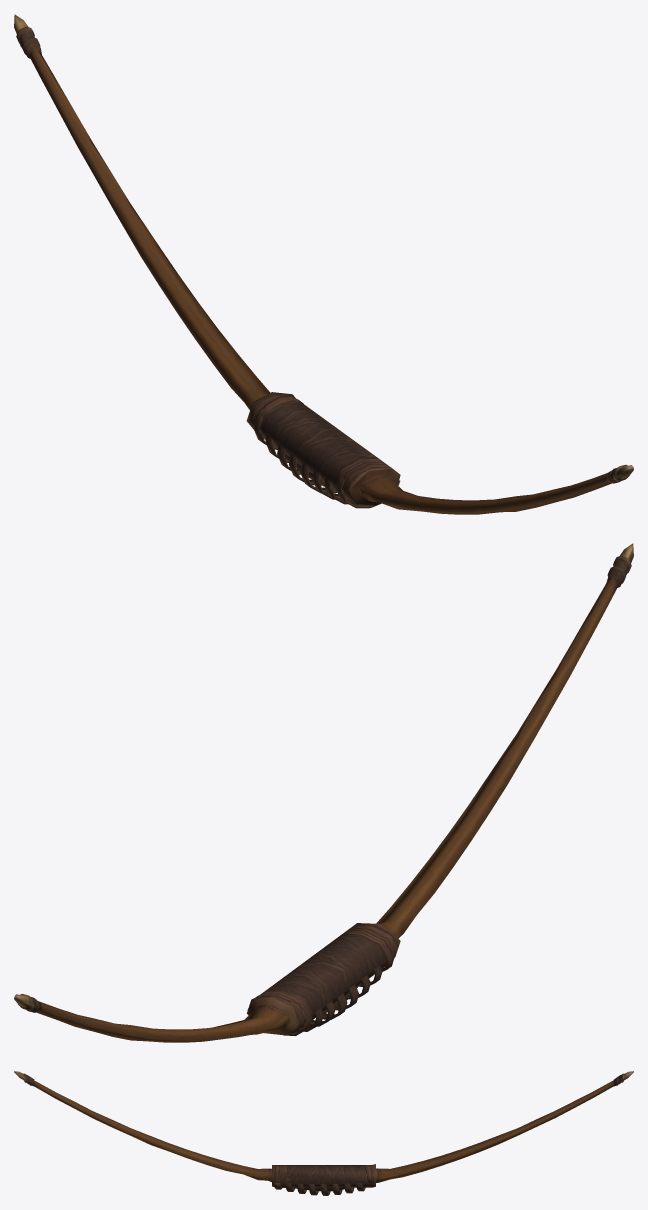
Rendered from mm6_lzd_bow.glb.
The picture shows the model from 3 angles, top to bottom: view 1: azimuth 30°, elevation 25°; view 2: azimuth 150°, elevation 25°; view 3: azimuth 270°, elevation 25°; orthographic projection. The views are drawn at different scales.
Visible parts, largest first — view 1: Bow; view 2: Bow; view 3: Bow.
Part boxes in pixels (x1=…): Bow: x1=14, y1=14, x2=633, y2=514; Bow: x1=14, y1=543, x2=633, y2=1042; Bow: x1=14, y1=1071, x2=633, y2=1195.
Bounding box in the file's own units: 0.0567 × 0.2472 × 1.13.
Materials: 1 (1 with a texture image).
